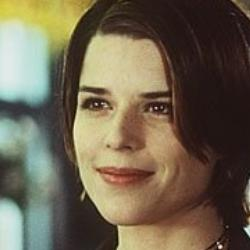face: (45, 1, 249, 234)
